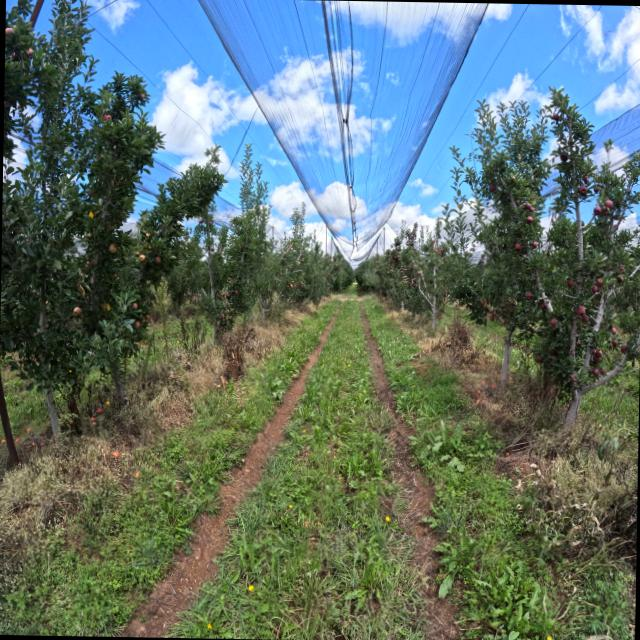-FireBlight-: (489, 308, 501, 323)
